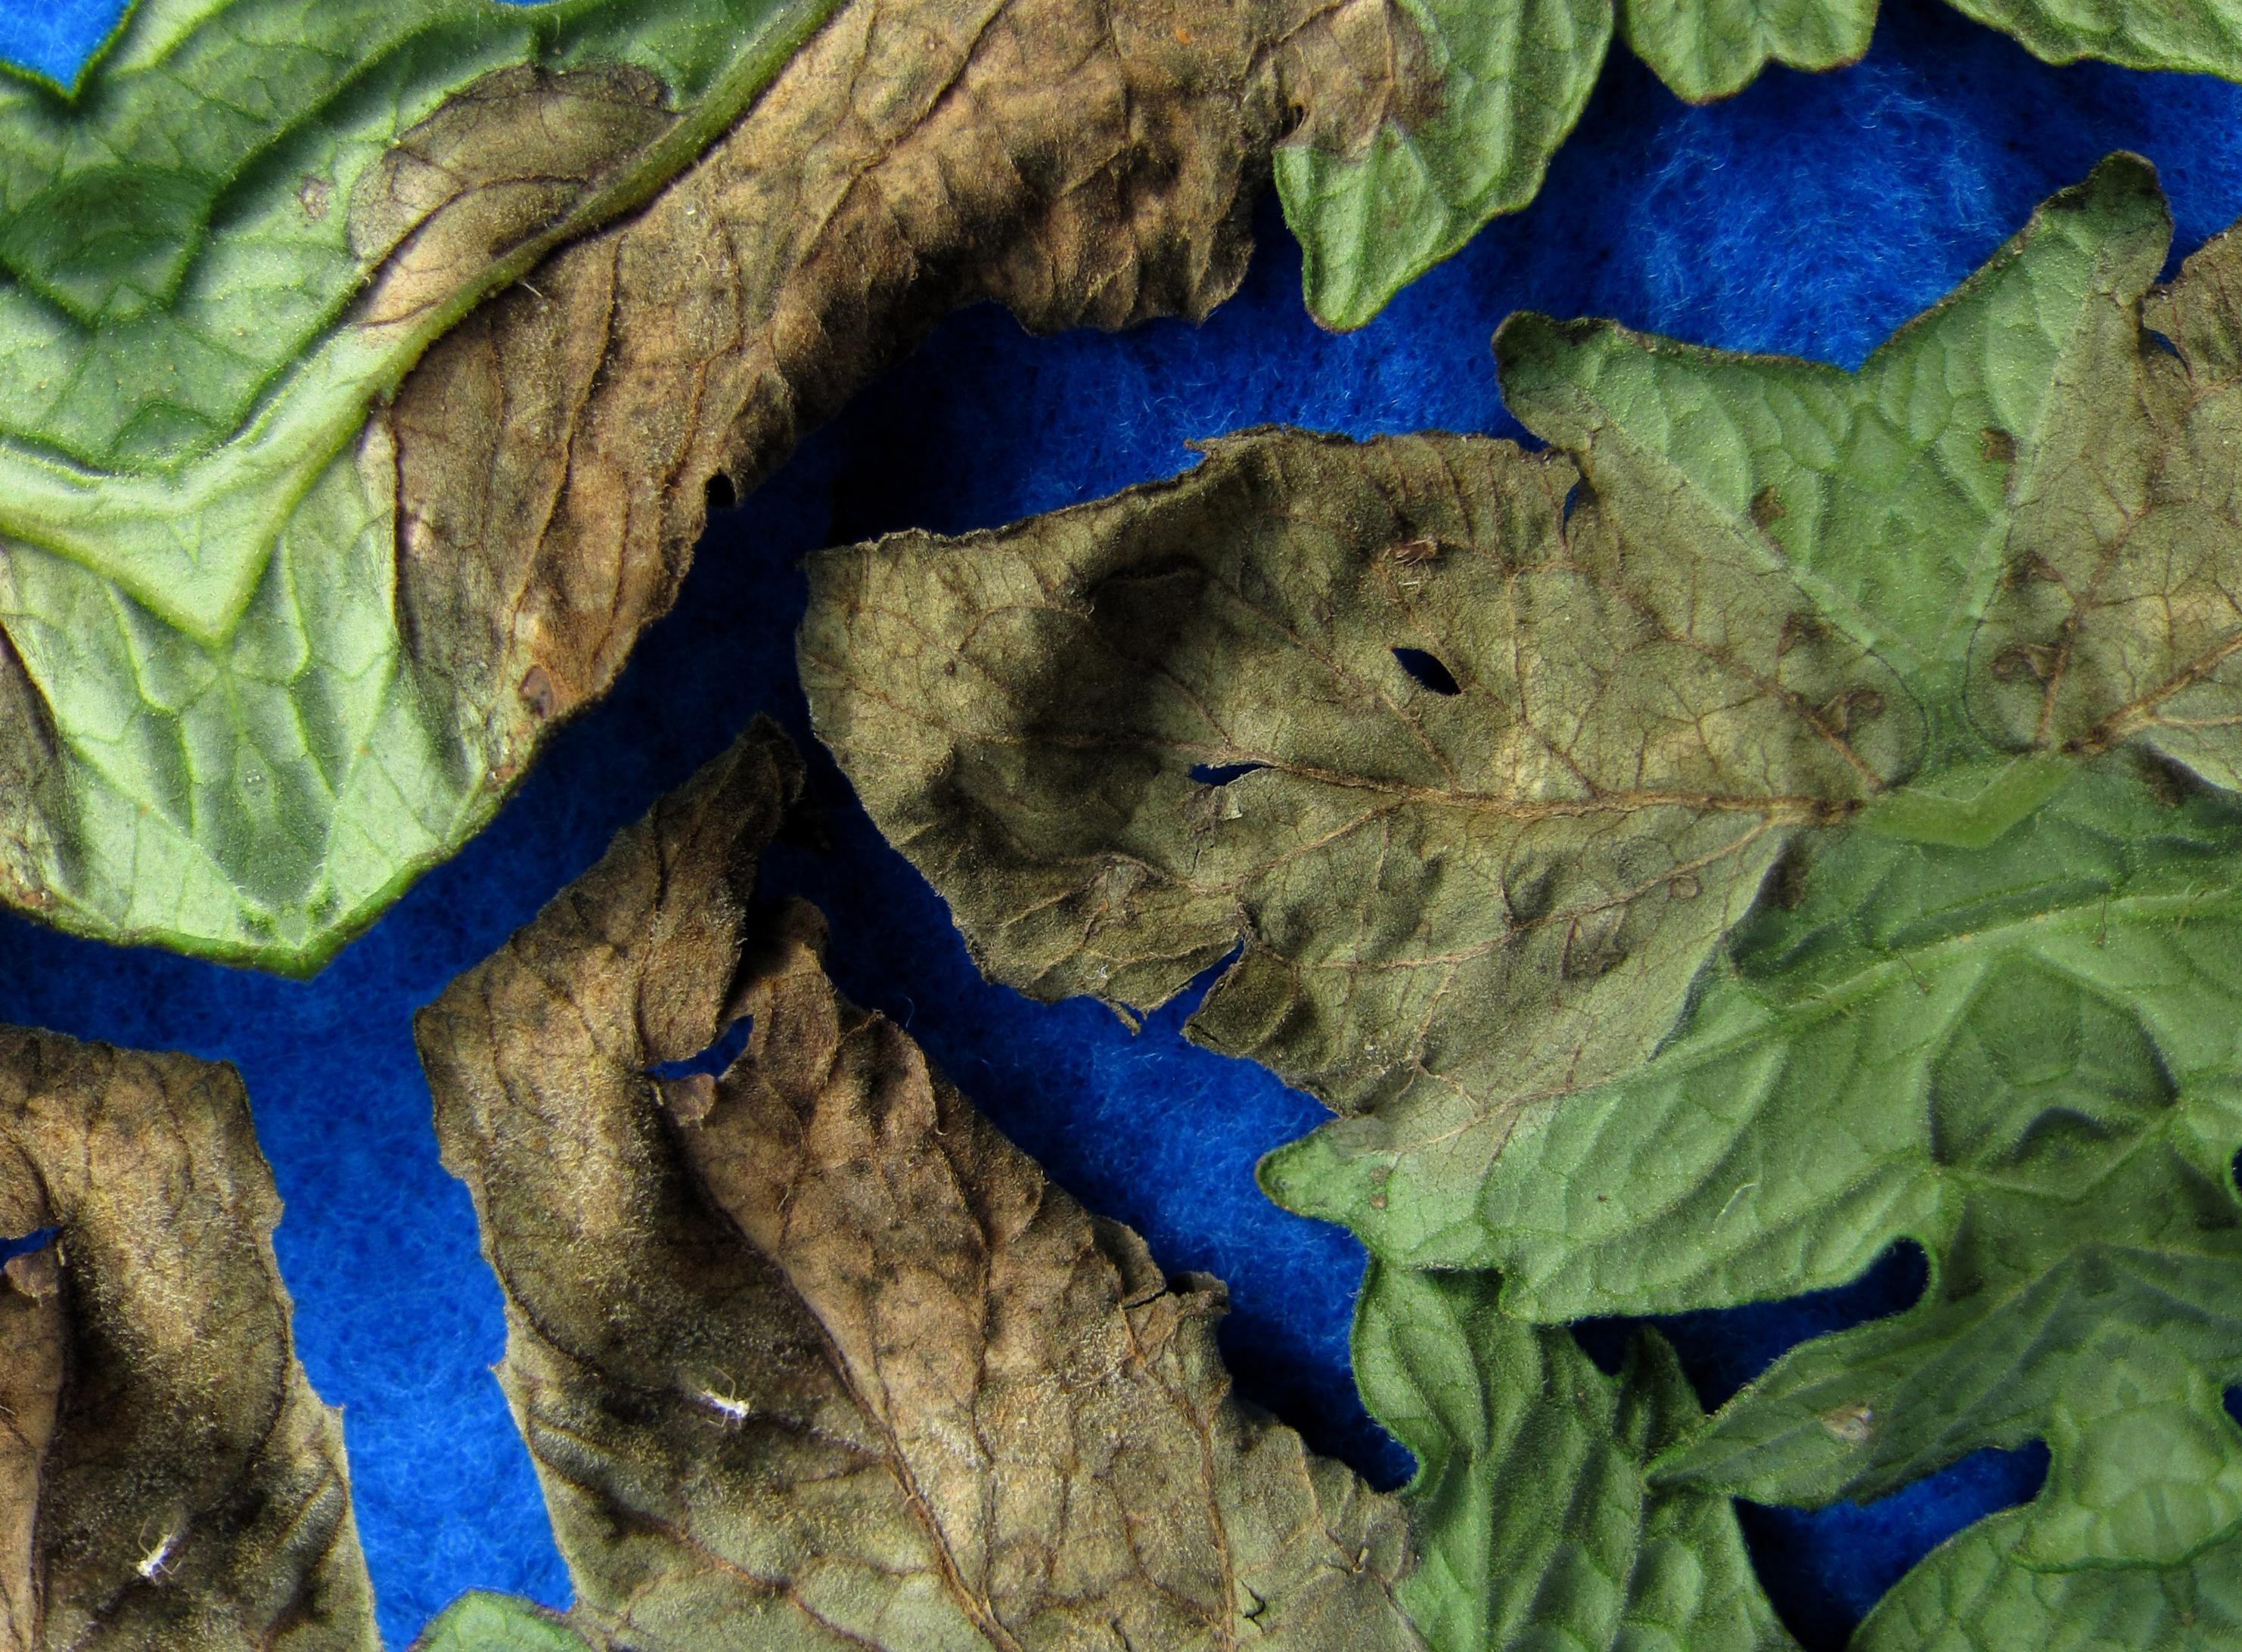Tomato leaf late blight: (730, 177, 2134, 1652), (296, 591, 1837, 1652)
